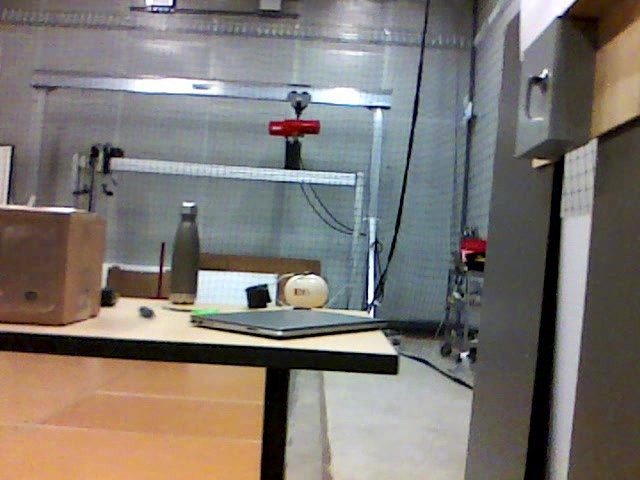box: (1, 206, 102, 327)
